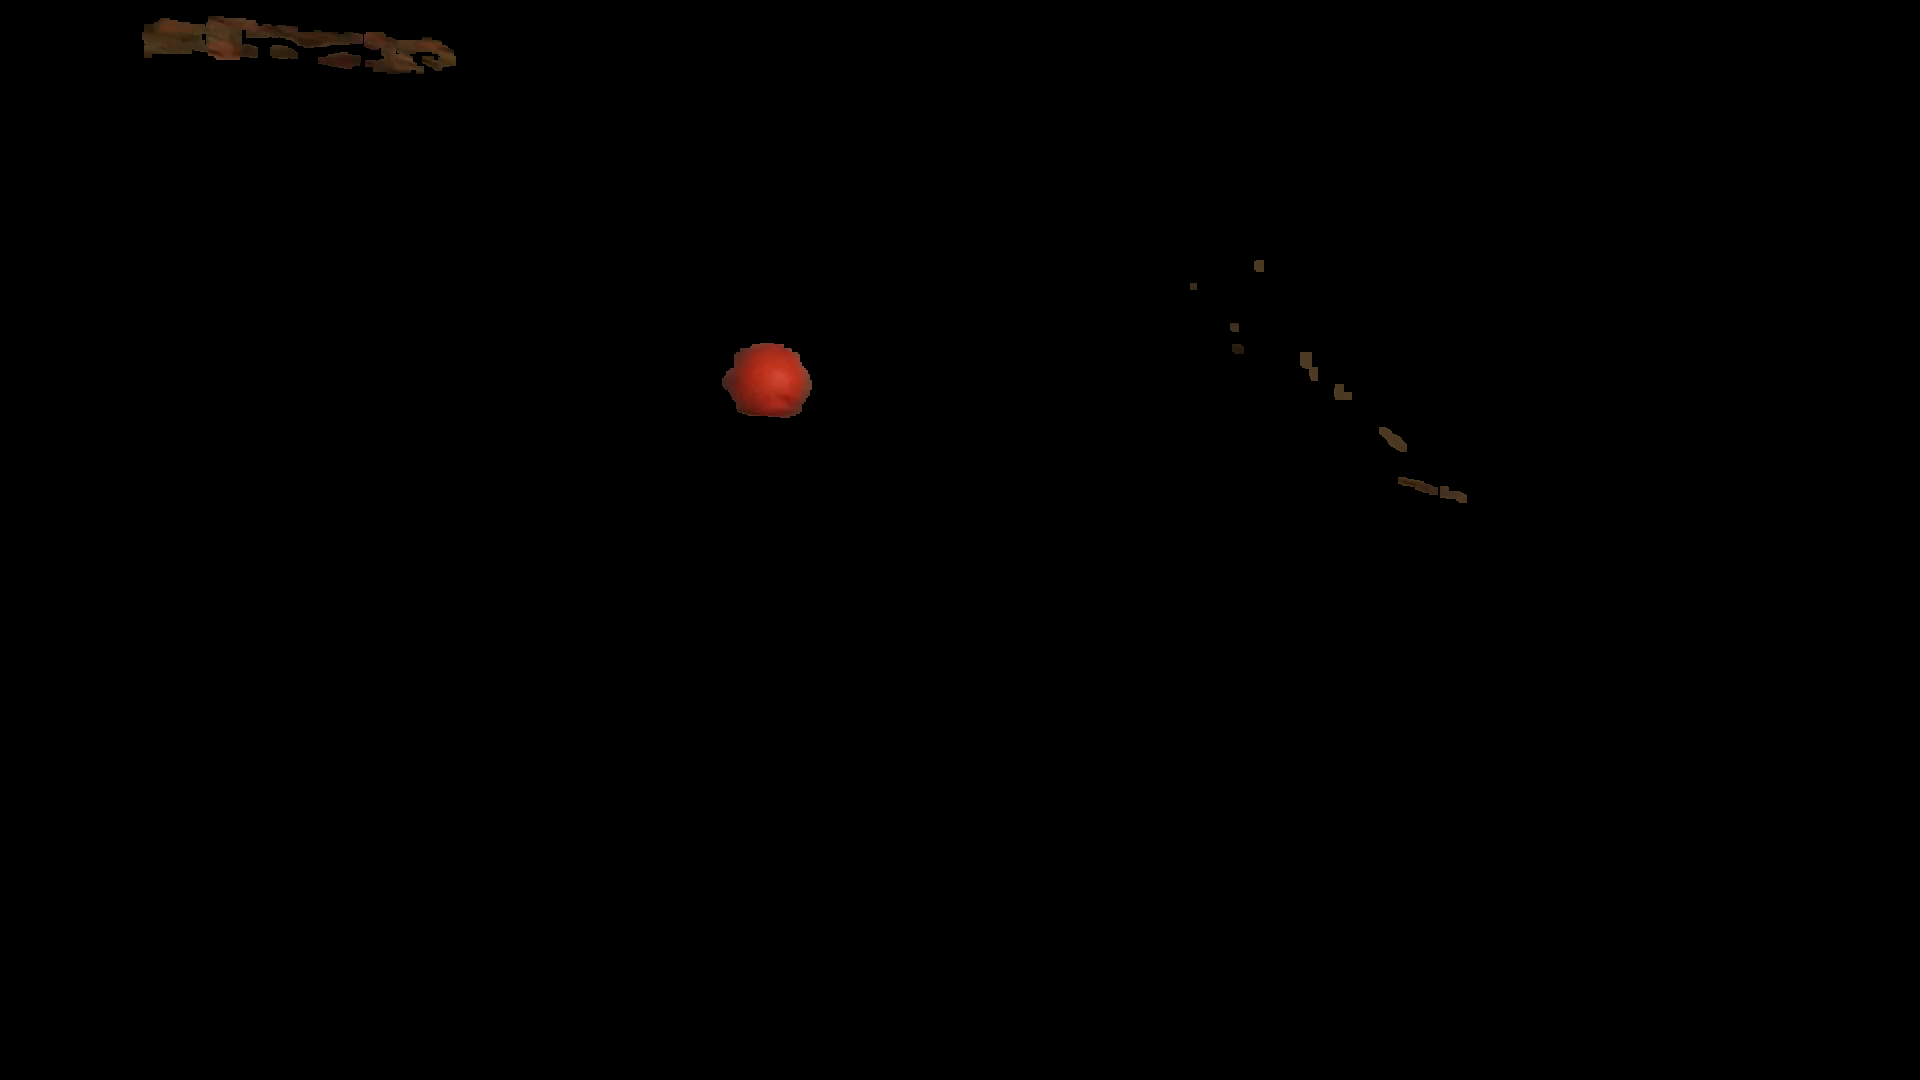Ball: (721, 340, 814, 419)
